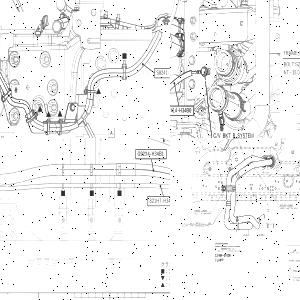PartNumber: (137, 150, 165, 157), (170, 107, 191, 114), (149, 198, 170, 204), (155, 69, 170, 76), (215, 254, 231, 258), (294, 60, 300, 67), (194, 209, 207, 212), (288, 259, 300, 262), (280, 204, 293, 206)
